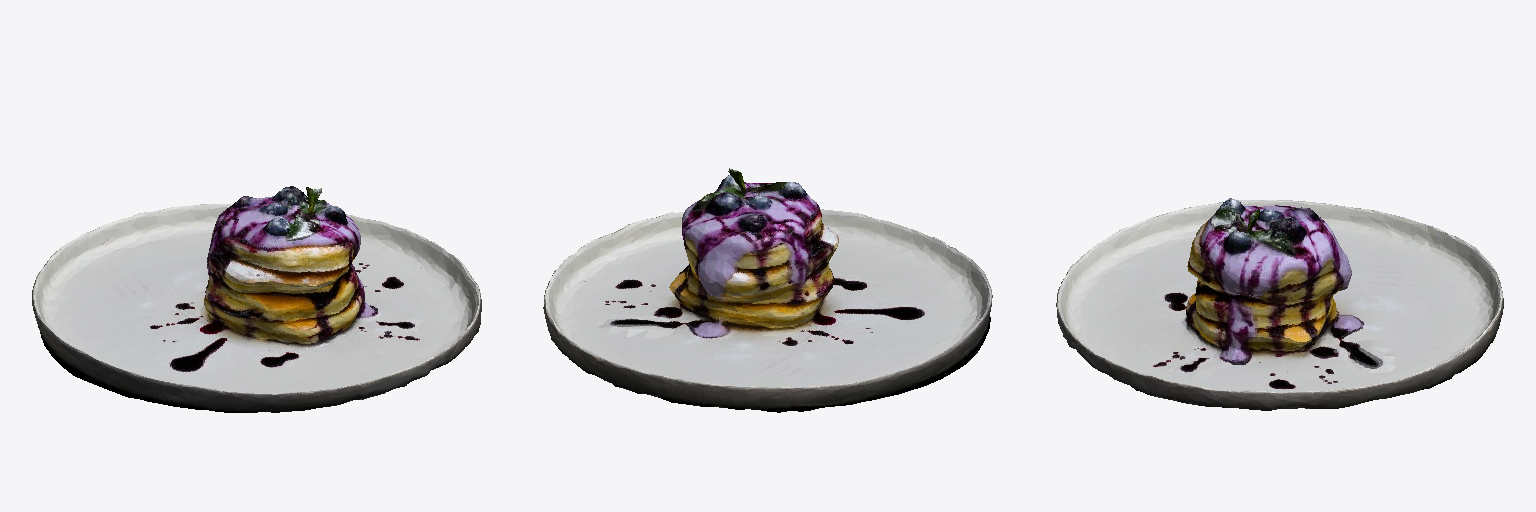
3 renders of one model, left to right at view 1: azimuth 30°, elevation 25°; view 2: azimuth 150°, elevation 25°; view 3: azimuth 270°, elevation 25°, orthographic.
Visible parts, largest first — view 1: default; view 2: default; view 3: default.
Boxes of the visible parts, x1,y1,x2,y2 form: default: [32, 186, 481, 412]; default: [543, 168, 992, 412]; default: [1056, 198, 1503, 410].
Bounding box in the file's own units: 25.39 × 8.41 × 25.35.
1 materials, 1 textured.